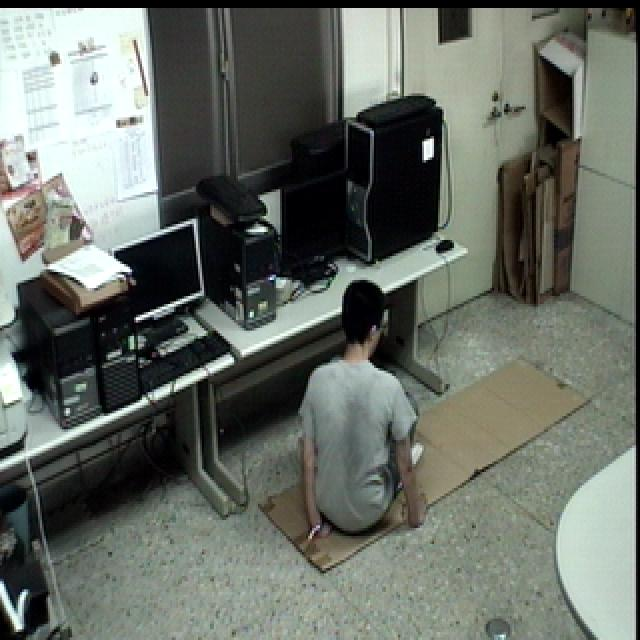sit: (291, 270, 430, 554)
